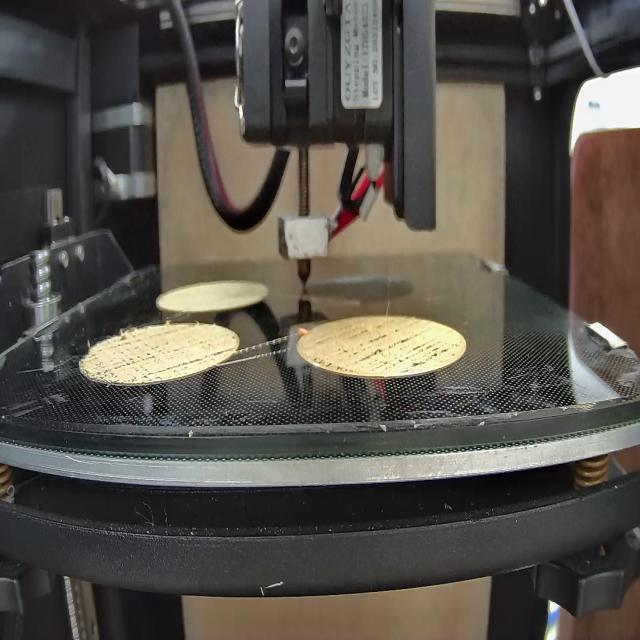under_extrusion: (310, 334, 451, 370), (90, 328, 154, 389), (158, 351, 237, 376)
